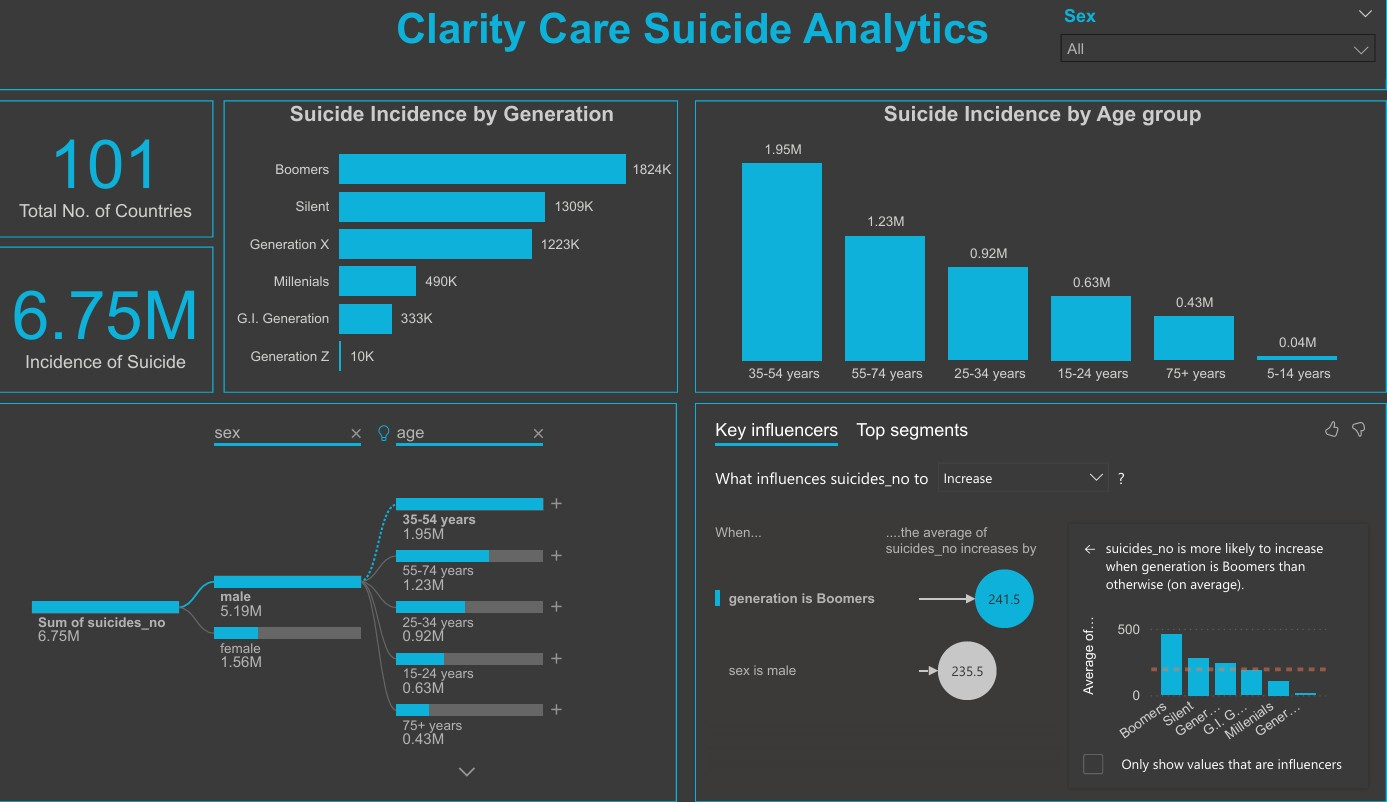

The page's visual inventory and layout, read from the dashboard file:
{"tool":"powerbi","page":{"name":"Clarity Care_Suicide Analytics","canvas":[1280,720],"ordinal":0},"visuals":[{"type":"keyDriversVisual","fields":{"Target":["SuicidalDataset.suicides_no"],"ExplainBy":["SuicidalDataset.generation","SuicidalDataset.sex"]},"box":[640.5,359.5,616,355.8],"z":0},{"type":"decompositionTreeVisual","fields":{"Analyze":["Sum(SuicidalDataset.suicides_no)"],"ExplainBy":["SuicidalDataset.sex","SuicidalDataset.age","SuicidalDataset.generation"]},"box":[19.9,359.5,604.6,355.8],"z":1000},{"type":"card","fields":{"Values":["Count(SuicidalDataset.country)"]},"box":[19.6,90.8,192.6,122.7],"z":2000},{"type":"card","fields":{"Values":["Sum(SuicidalDataset.suicides_no)"]},"box":[19.6,220.9,192.6,130.1],"z":3000},{"type":"clusteredBarChart","title":"Suicide Incidence by Generation","fields":{"Category":["FilterBySex.generation"],"Y":["Sum(FilterBySex.suicides_no)"]},"box":[220.9,90.8,403.7,260.1],"z":4000},{"type":"clusteredColumnChart","title":"Suicide Incidence by Age group","fields":{"Category":["FilterBySex.age"],"Y":["Sum(FilterBySex.suicides_no)"]},"box":[640.5,90.8,616,260.1],"z":5000},{"type":"textbox","box":[19.6,0,1236.8,82.2],"z":6000},{"type":"slicer","fields":{"Values":["SuicidalDataset.sex"]},"box":[954.6,2.5,300.6,69.9],"z":7000}]}

Visuals, with their boxes in screenshot pixels (x1, y1, x2, y2), scaled from the page's 1280x720 canvas onto the 1387x802 screenshot:
keyDriversVisual - SuicidalDataset.suicides_no x SuicidalDataset.generation: 694 400 1362 797
decompositionTreeVisual - Sum(SuicidalDataset.suicides_no) x SuicidalDataset.sex: 22 400 677 797
card - Count(SuicidalDataset.country): 21 101 230 238
card - Sum(SuicidalDataset.suicides_no): 21 246 230 391
"Suicide Incidence by Generation" clusteredBarChart: 239 101 677 391
"Suicide Incidence by Age group" clusteredColumnChart: 694 101 1362 391
textbox: 21 0 1361 92
slicer - SuicidalDataset.sex: 1034 3 1360 81
